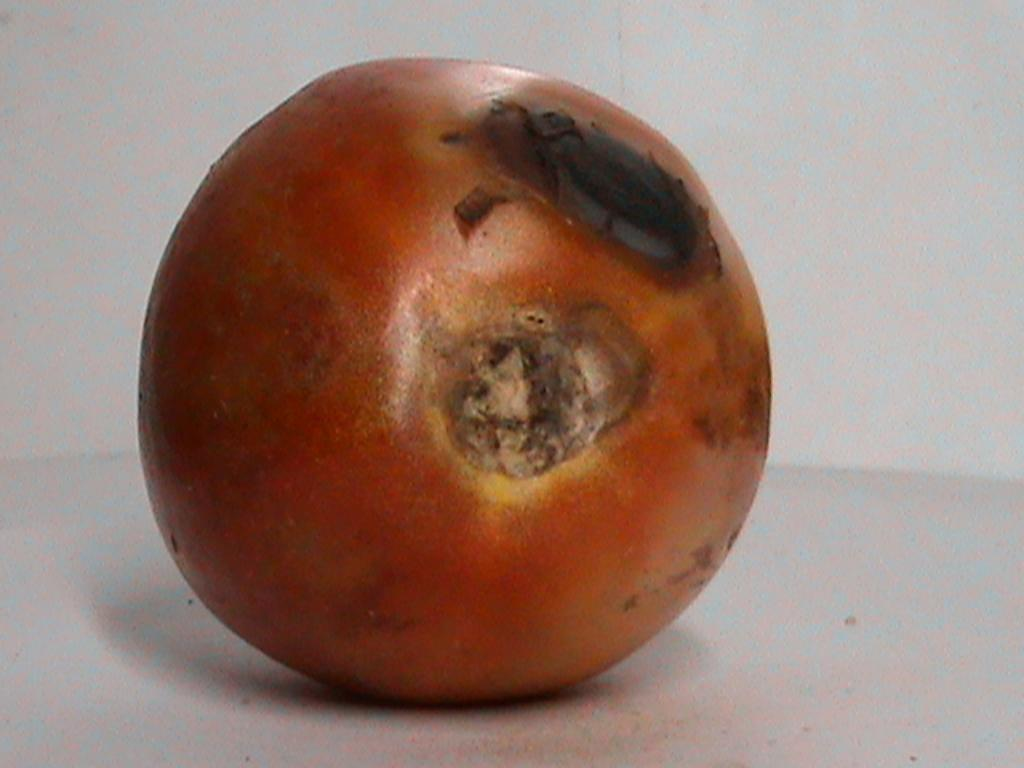bruise_discoloration: (136, 95, 349, 552), (692, 286, 775, 456), (334, 566, 424, 641)
rot_mold_decay: (486, 102, 696, 266)
tomato: (139, 59, 770, 698)
